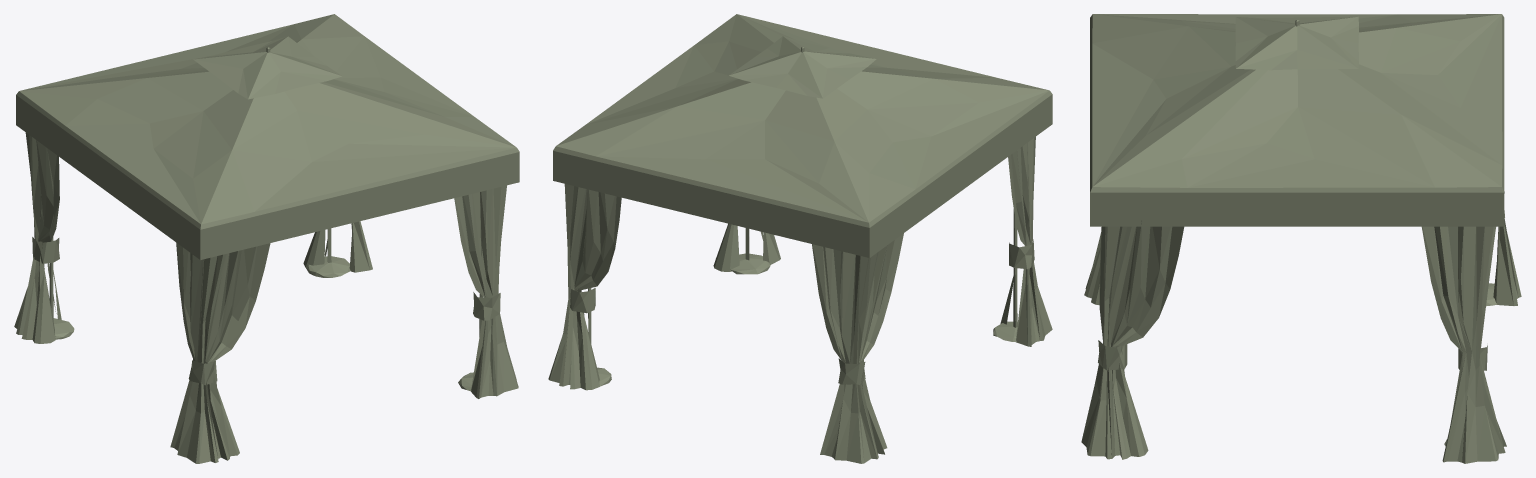
File: tent.glb
The picture shows the model from 3 angles, left to right: view 1: azimuth 30°, elevation 25°; view 2: azimuth 150°, elevation 25°; view 3: azimuth 270°, elevation 25°; orthographic projection. The views are drawn at different scales.
Visible parts, largest first — view 1: Shape73; view 2: Shape73; view 3: Shape73.
Boxes of the visible parts, x1,y1,x2,y2 form: Shape73: (14, 14, 519, 463); Shape73: (548, 14, 1052, 463); Shape73: (1081, 14, 1521, 463).
Bounding box in the file's own units: 2.97 × 2.6 × 2.97.
